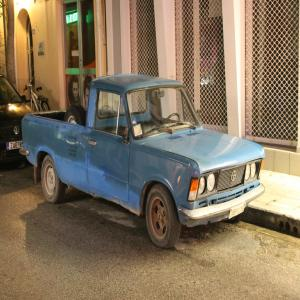Vehicle-registration-plate: (230, 204, 247, 220), (7, 140, 23, 152)
